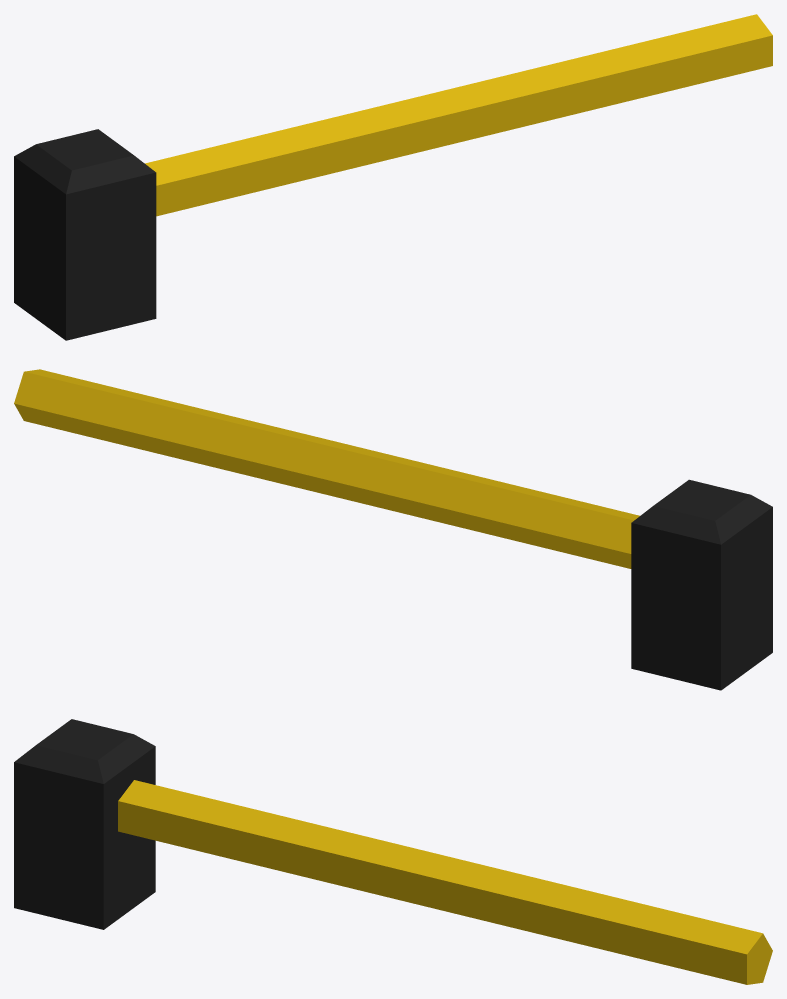
The model's file is BarrierParking.glb.
3 renders of one model, top to bottom at view 1: azimuth 30°, elevation 25°; view 2: azimuth 150°, elevation 25°; view 3: azimuth 330°, elevation 25°, orthographic.
Visible parts, largest first — view 1: BarrierParking; view 2: BarrierParking; view 3: BarrierParking.
Part boxes in pixels (left/top/right/bottom): BarrierParking: left=14, top=14, right=772, bottom=340; BarrierParking: left=14, top=369, right=772, bottom=690; BarrierParking: left=14, top=719, right=772, bottom=984.
Bounding box in the file's own units: 8.33 × 1.78 × 1.04.
